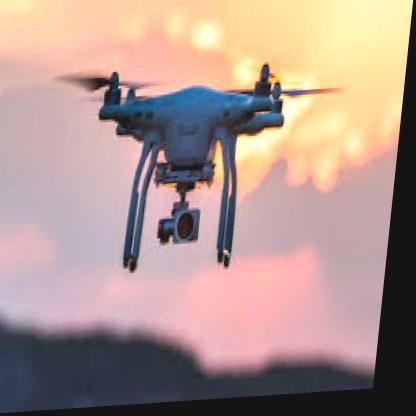UAS: (41, 59, 352, 283)
